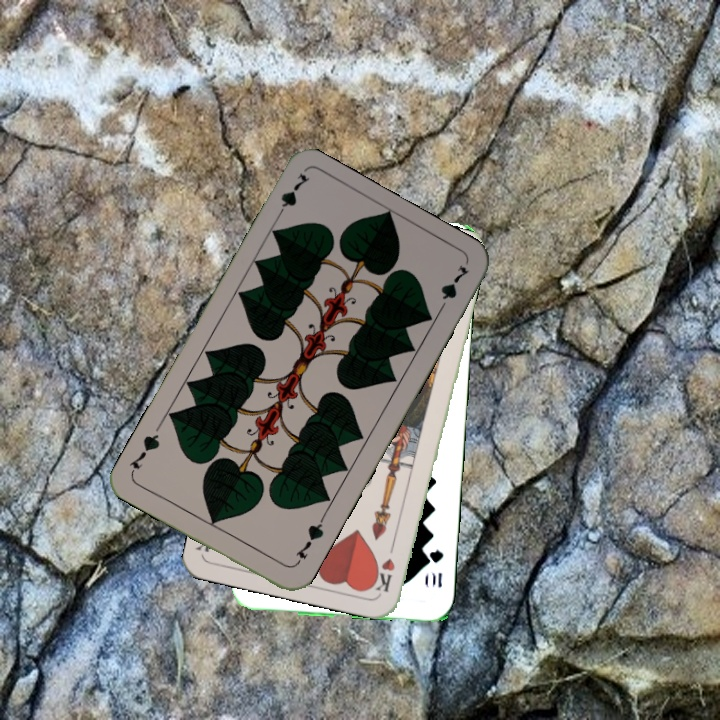G10: (425, 546, 446, 590)
G7: (271, 169, 313, 224), (290, 514, 327, 568)
HK: (373, 536, 398, 595)
